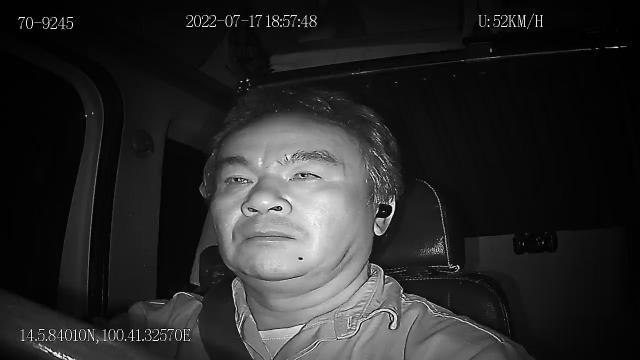SafeDriving: (283, 158, 329, 189), (218, 161, 259, 195)
Seatbelt: (196, 274, 256, 360)
